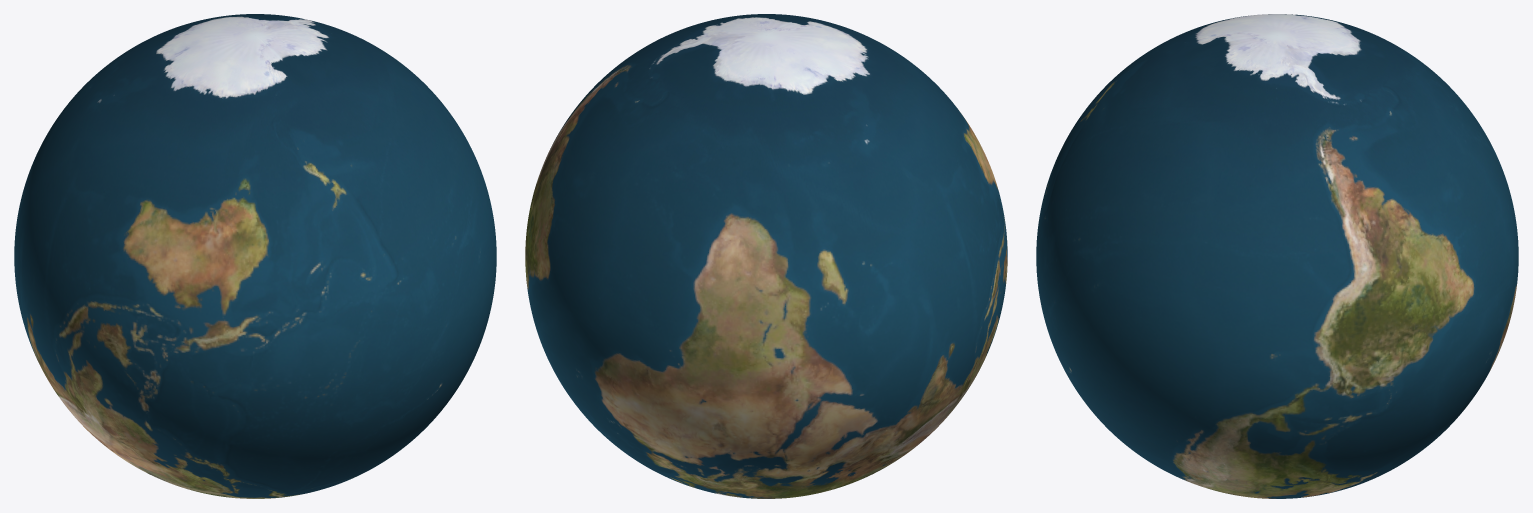
The model's file is earth2.glb.
3 renders of one model, left to right at view 1: azimuth 30°, elevation 25°; view 2: azimuth 150°, elevation 25°; view 3: azimuth 270°, elevation 25°, orthographic.
Parts seen in each view (by area): view 1: Sphere_2; view 2: Sphere_2; view 3: Sphere_2.
Part boxes in pixels (x1,y1,x2,y2): Sphere_2: (14,14,496,498); Sphere_2: (525,14,1007,498); Sphere_2: (1036,14,1518,498).
Bounding box in the file's own units: 1.97 × 2 × 1.97.
Materials: 1 (1 with a texture image).
